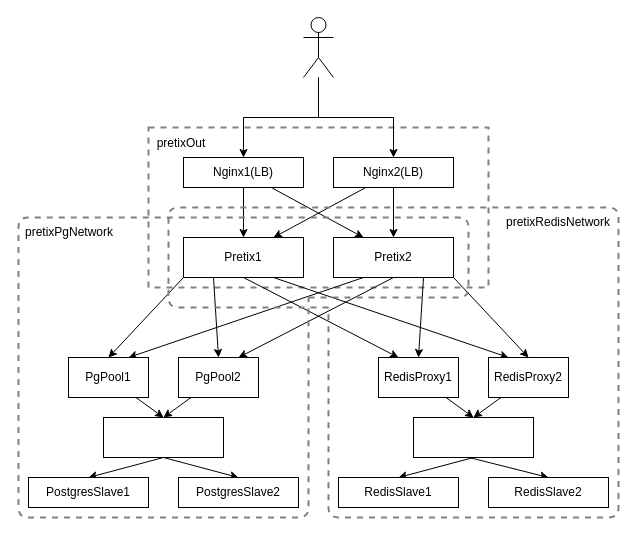
The diagram is 637 pixels wide and 537 high, and some of its shapes have lost their labels. The shapes that lost their labels are listed below. From the top down, each one's centre as x and y in pixels, then its label:
At point 318,47: "User".
At point 163,437: "PostgresMaster".
At point 473,437: "RedisMaster".
